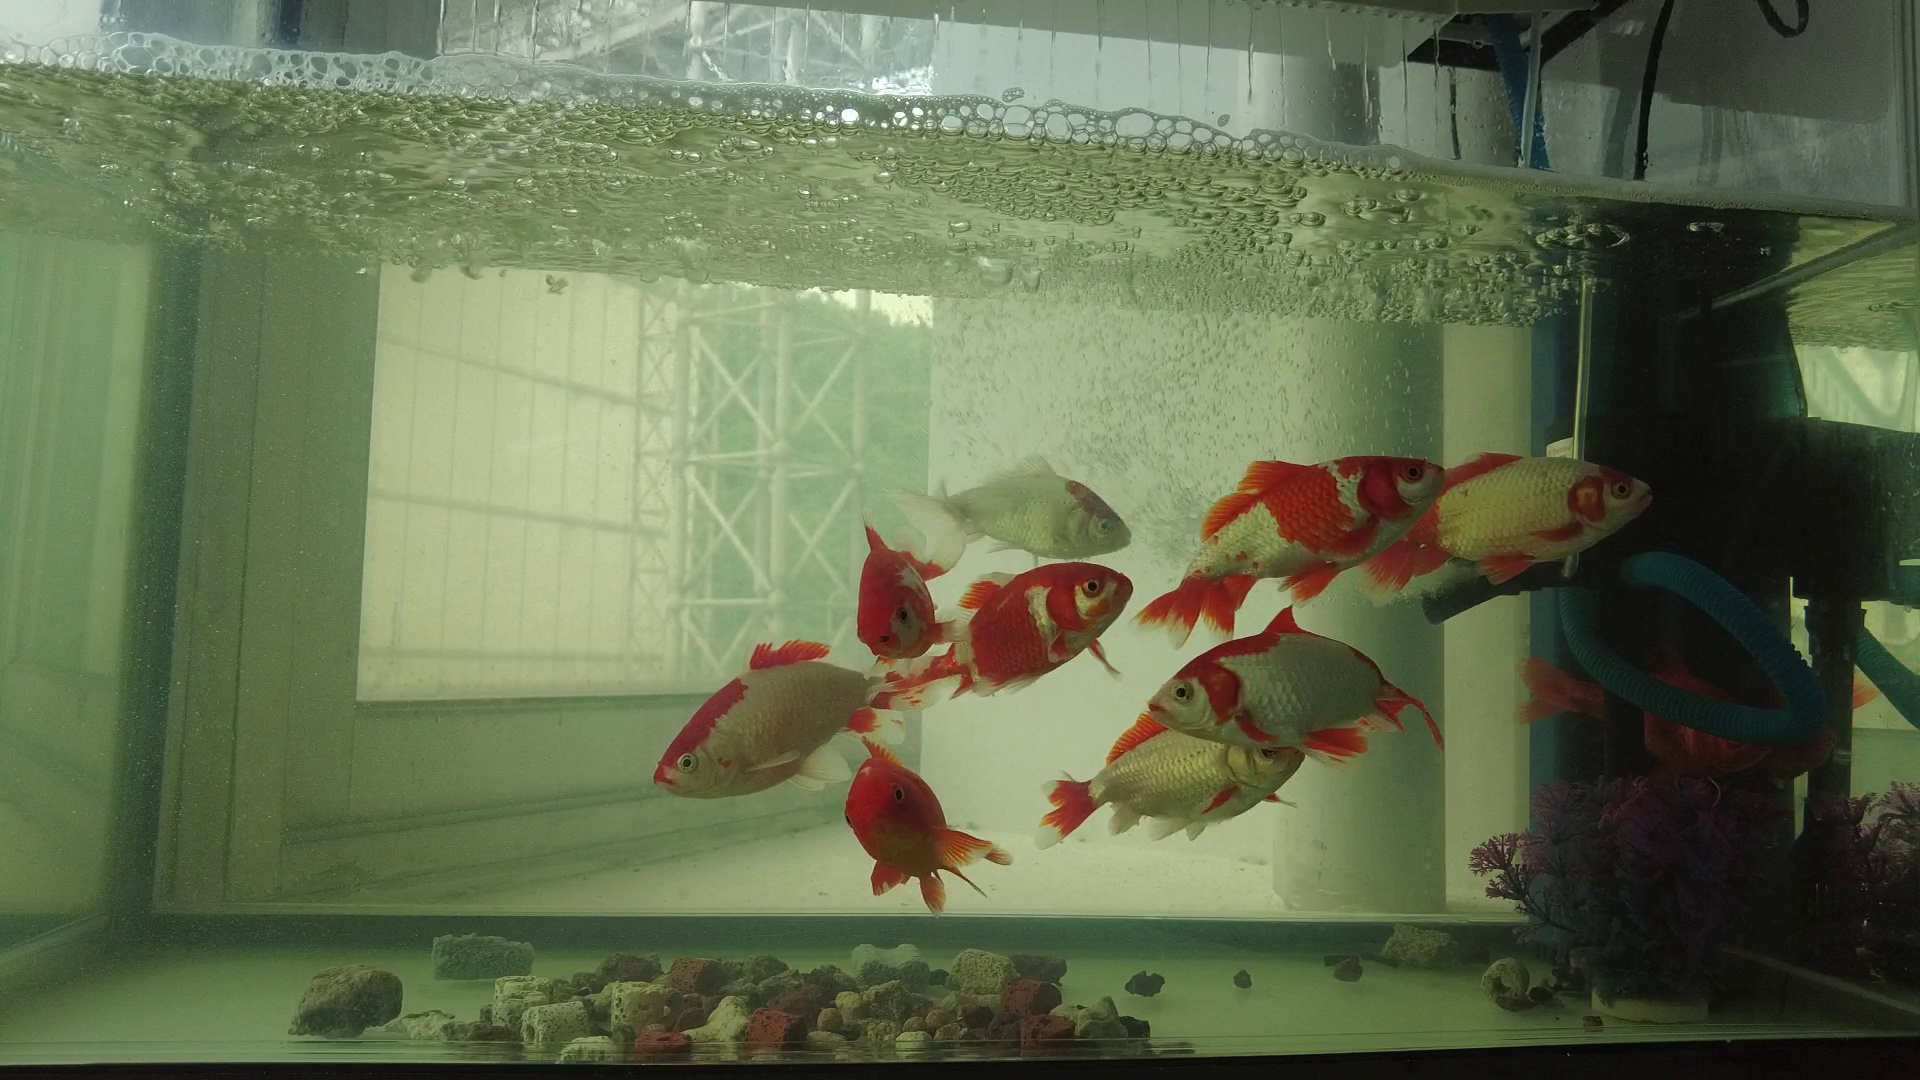fish: (1130, 448, 1455, 658), (1139, 597, 1452, 773), (1346, 447, 1662, 616), (640, 630, 935, 806), (1029, 700, 1317, 855), (872, 553, 1143, 707), (829, 724, 1022, 926), (1505, 645, 1776, 771), (880, 444, 1139, 564), (847, 506, 953, 671)
